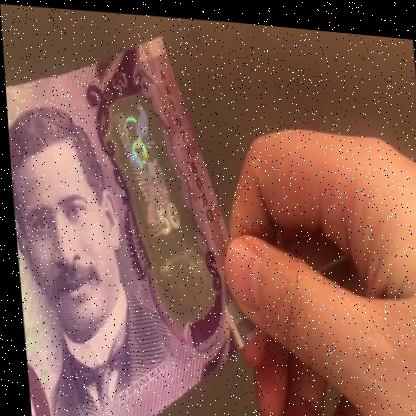50F: (107, 97, 202, 302)
